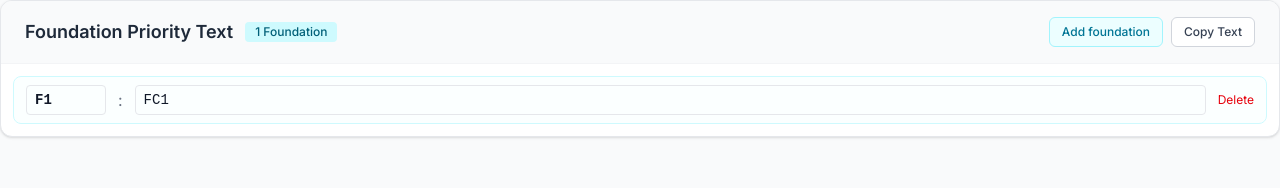
FoundationPriorityTextResult copy › tells the user when the copy genuinely fails instead of doing nothing
The width and height of the screenshot is (1280, 188).
Click the button "Copy Text".
click(1213, 32)  # box [1171,17,1255,47]
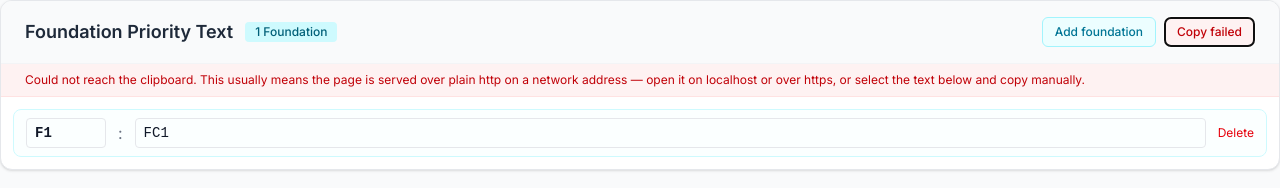
Check: the message shows "Could not reach the clipboard", box [25,72,1085,87]
Check: the button "Copy failed" is shown, box [1164,17,1255,47]
